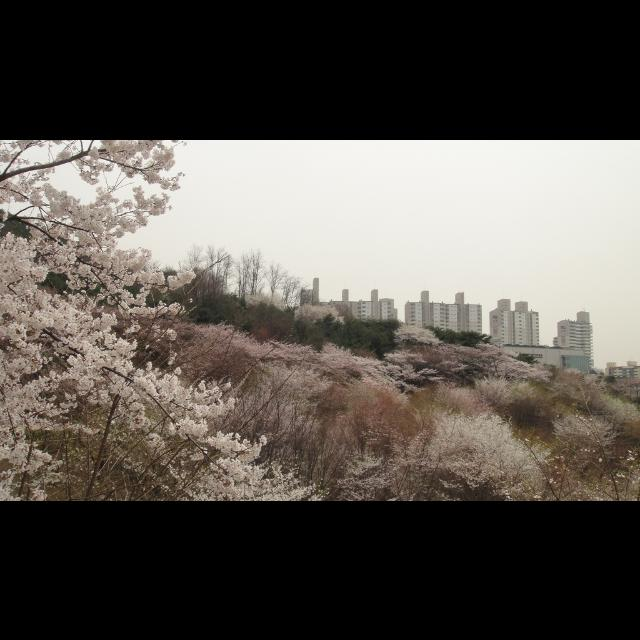Flower: (0, 139, 332, 499), (172, 366, 182, 374)
